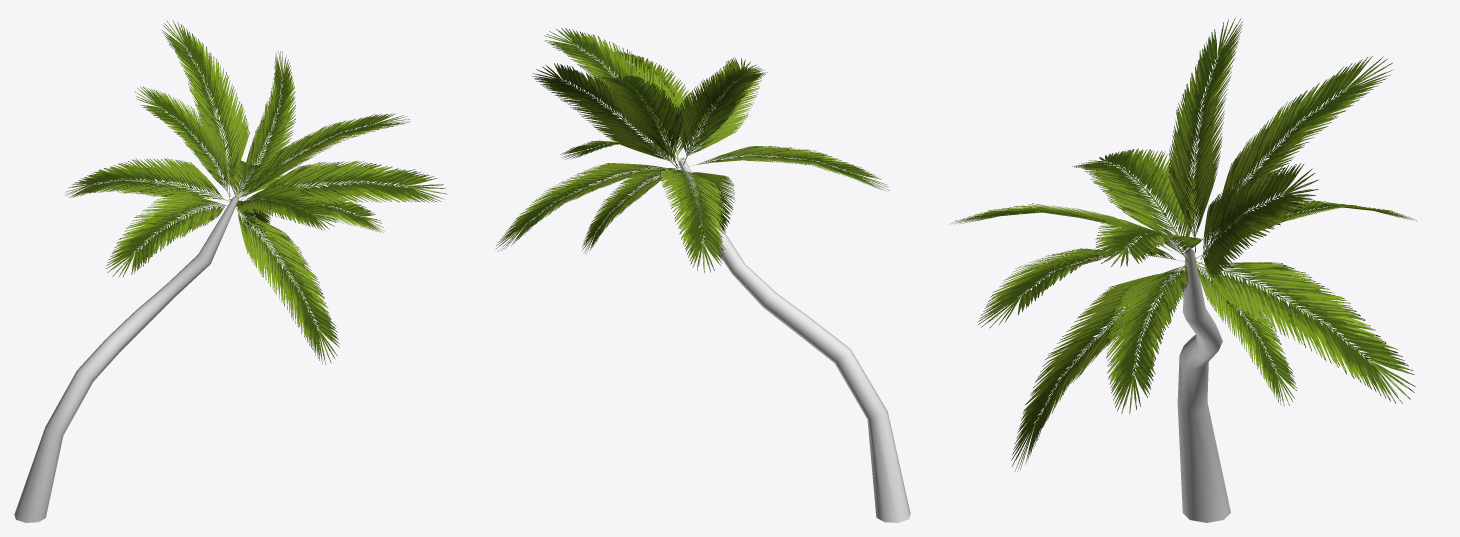
Rendered from CoconutTree1.fbx.
3 renders of one model, left to right at view 1: azimuth 30°, elevation 25°; view 2: azimuth 150°, elevation 25°; view 3: azimuth 270°, elevation 25°, orthographic. The views are drawn at different scales.
Parts seen in each view (by area): view 1: CoconutTree1; view 2: CoconutTree1; view 3: CoconutTree1.
Part boxes in pixels (<box>): CoconutTree1: <box>14,20,446,522</box>; CoconutTree1: <box>495,28,910,522</box>; CoconutTree1: <box>949,18,1416,522</box>.
Size of the model in its own units: 805 by 842 by 641.
